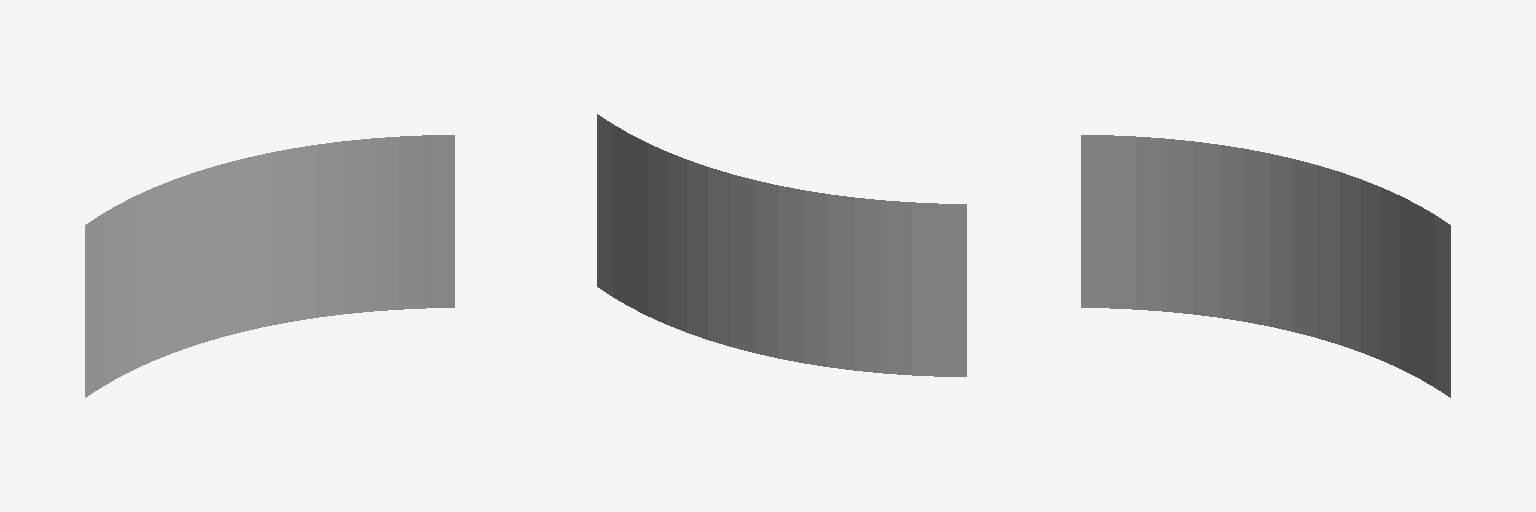
File: Screen.obj
The picture shows the model from 3 angles: view 1: azimuth 30°, elevation 25°; view 2: azimuth 150°, elevation 25°; view 3: azimuth 330°, elevation 25°; orthographic projection.
Parts seen in each view (by area): view 1: Screen; view 2: Screen; view 3: Screen.
Part boxes in pixels (bbox=[...]): Screen: bbox=[85, 135, 454, 397]; Screen: bbox=[597, 114, 966, 376]; Screen: bbox=[1081, 135, 1450, 397].
Size of the model in its own units: 7.82 by 3.5 by 1.04.